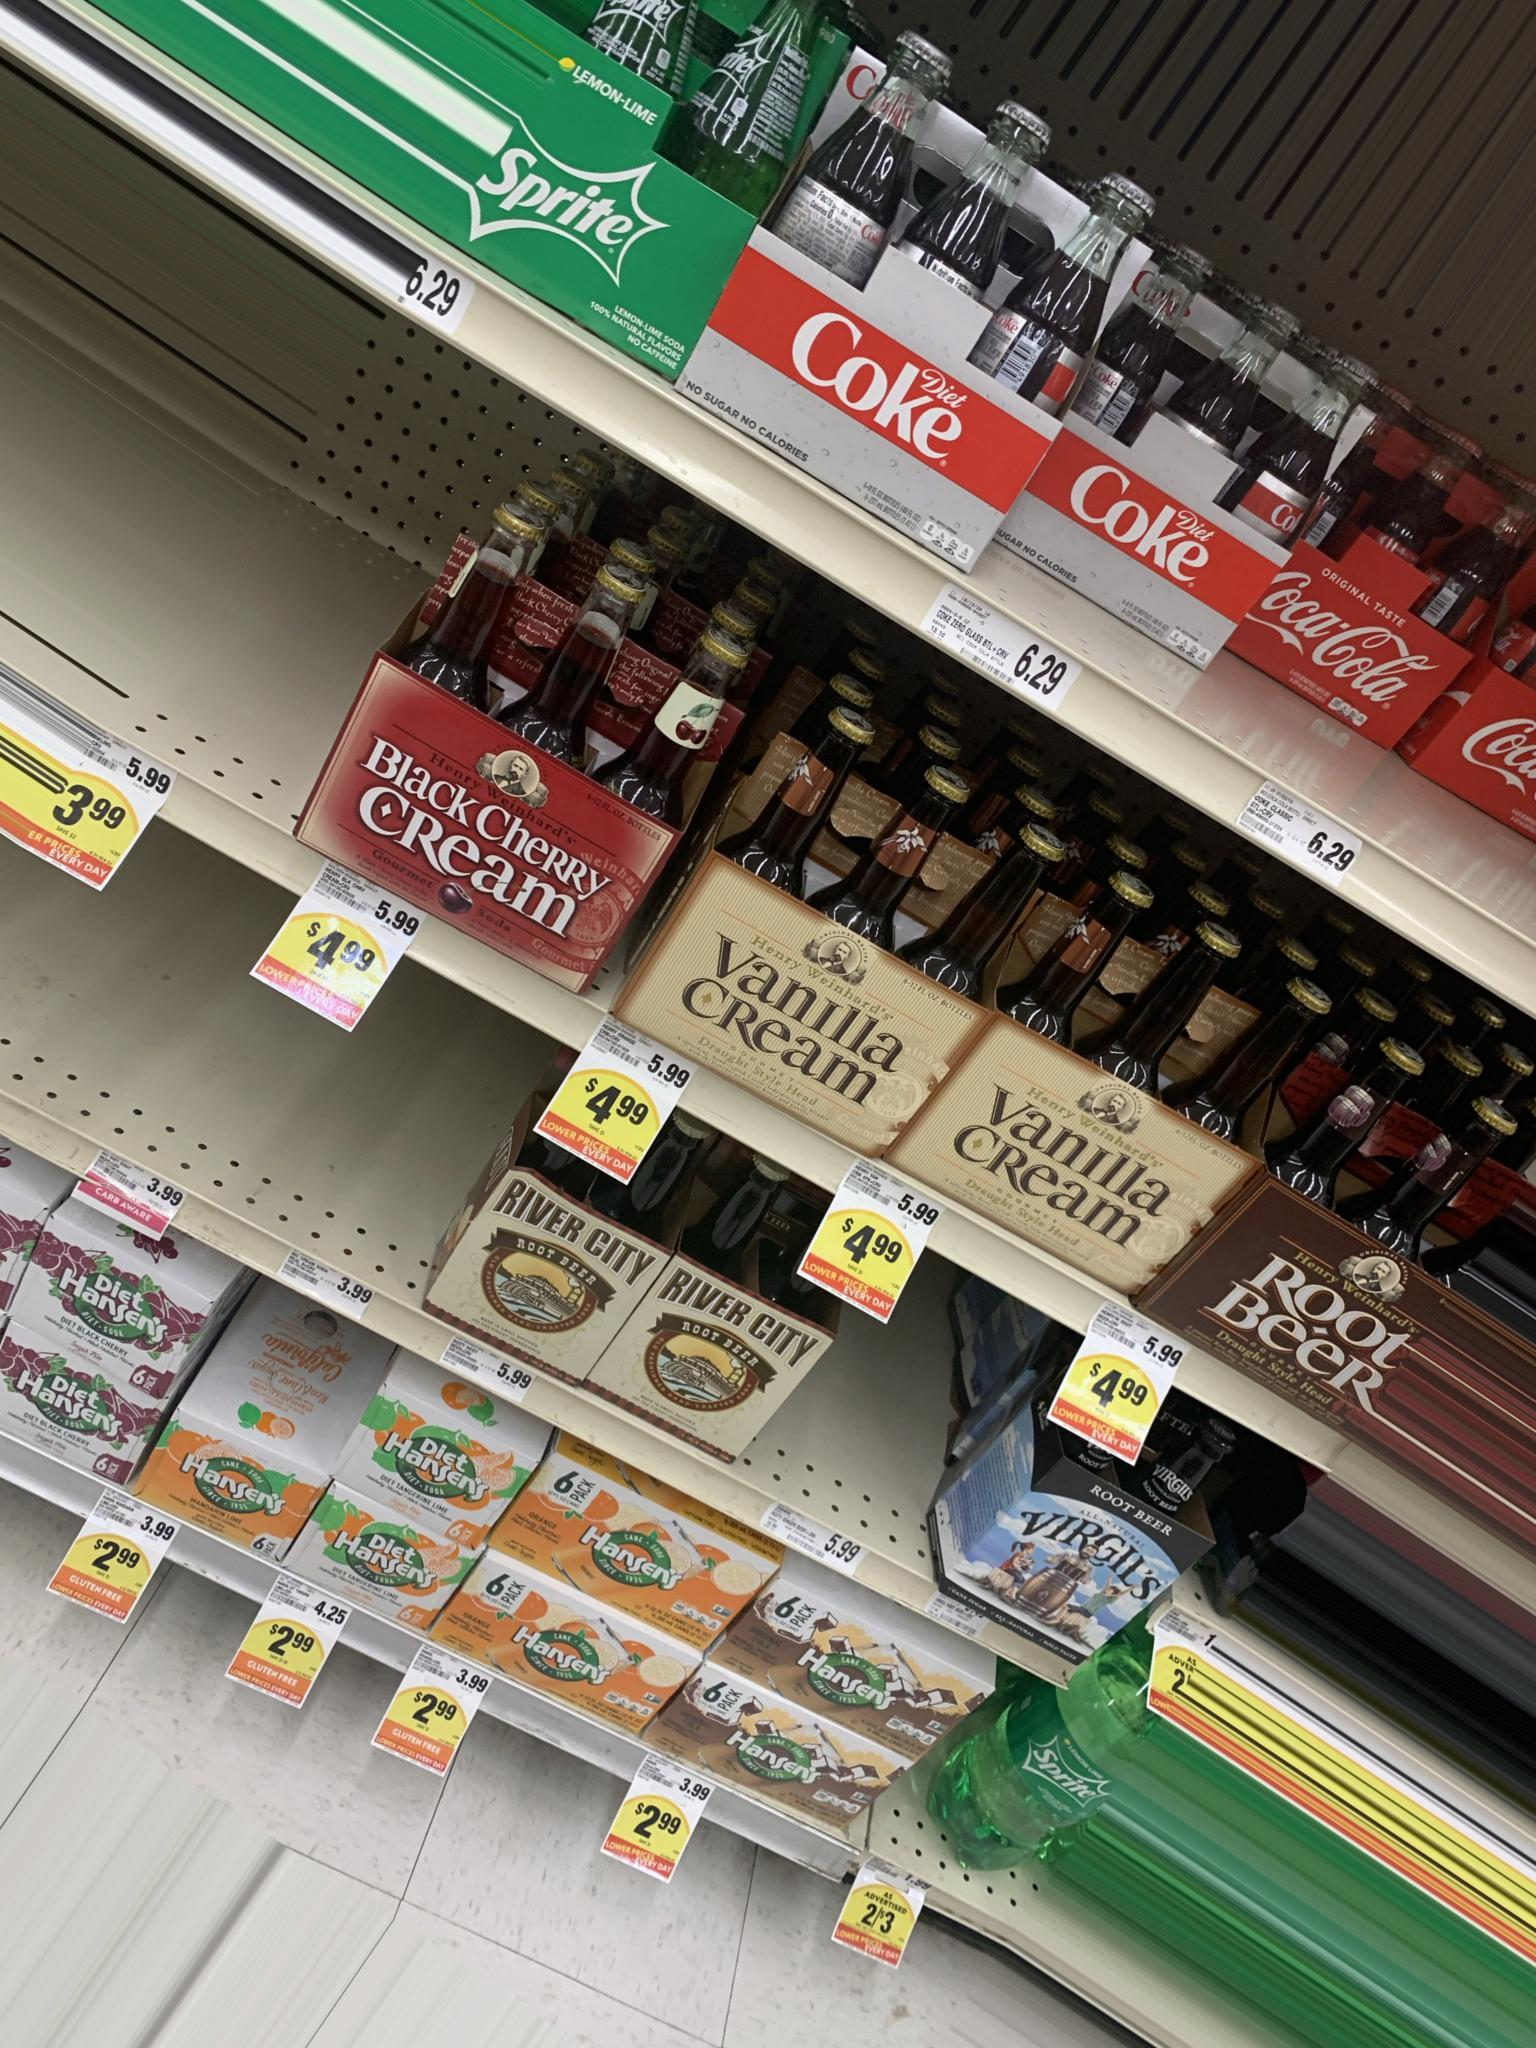soda: (731, 229, 1031, 548), (1047, 335, 1270, 650), (489, 32, 702, 352)
